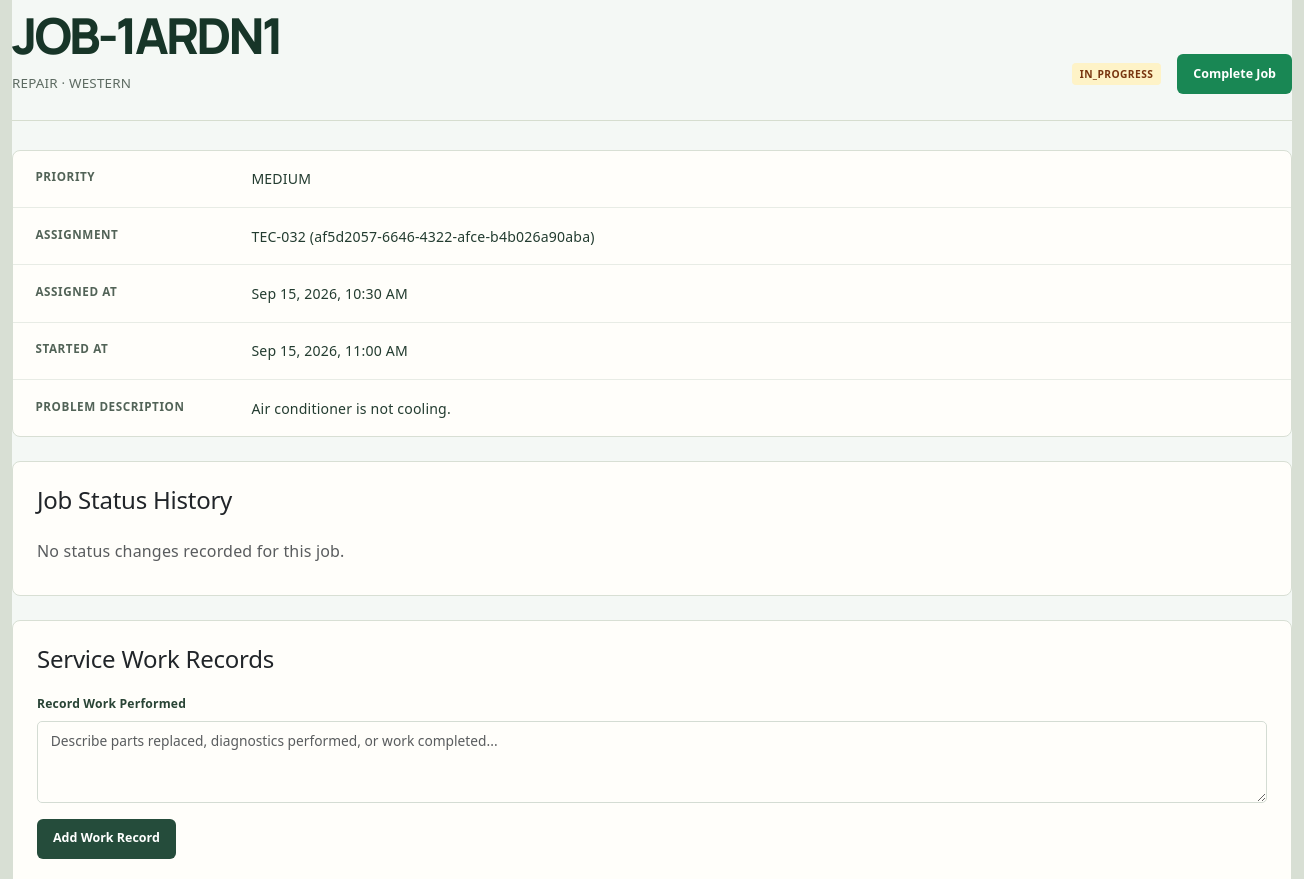
Test: JobDetailPage › adds a work record and displays it in the list
Replace the text in the text box labelled "Record Work Performed" with "Checked coolant levels and tightened valves." at point(652, 762), box [37,721,1267,803]
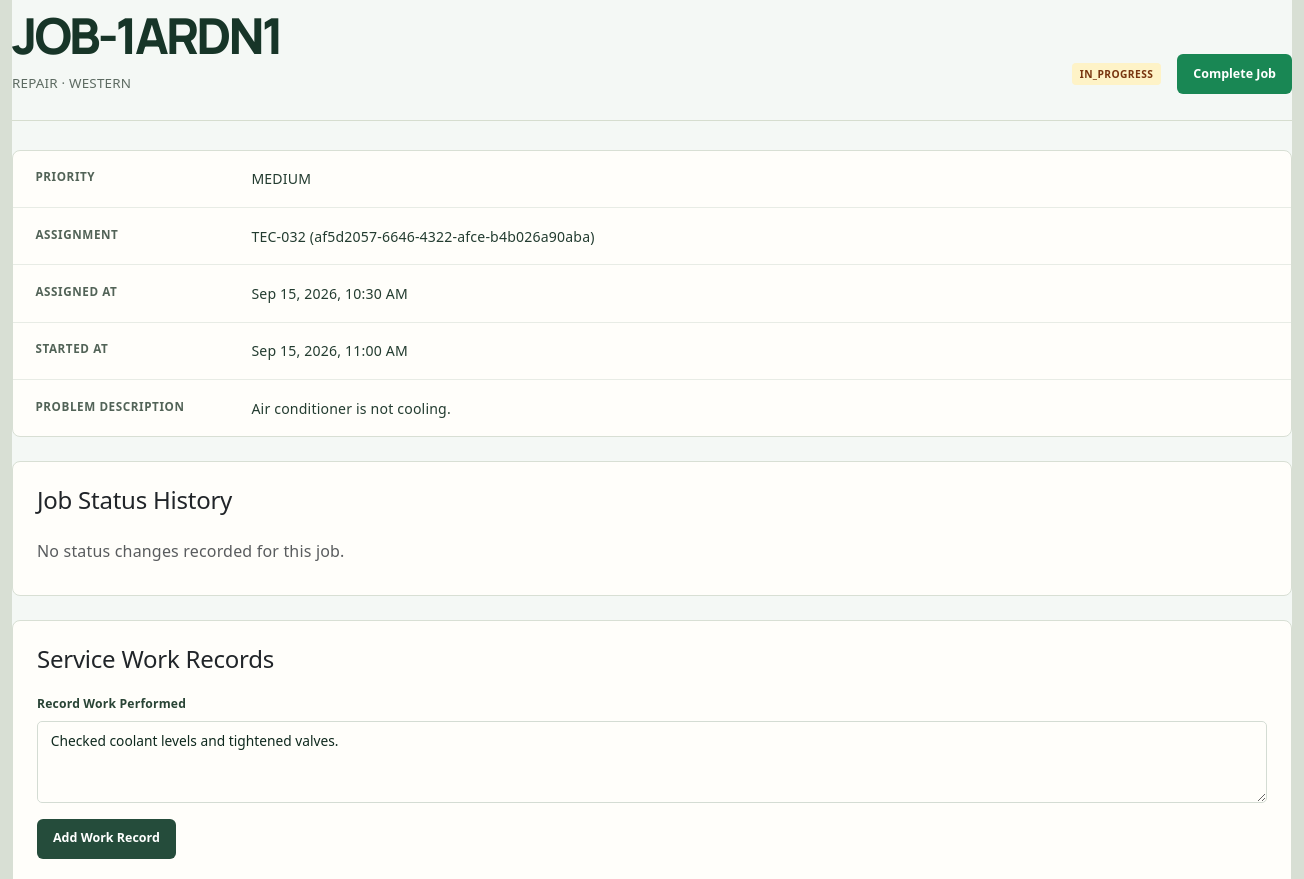
Click the button "Add Work Record" at point(106, 839), box [37,819,176,859]
(page scrolled)
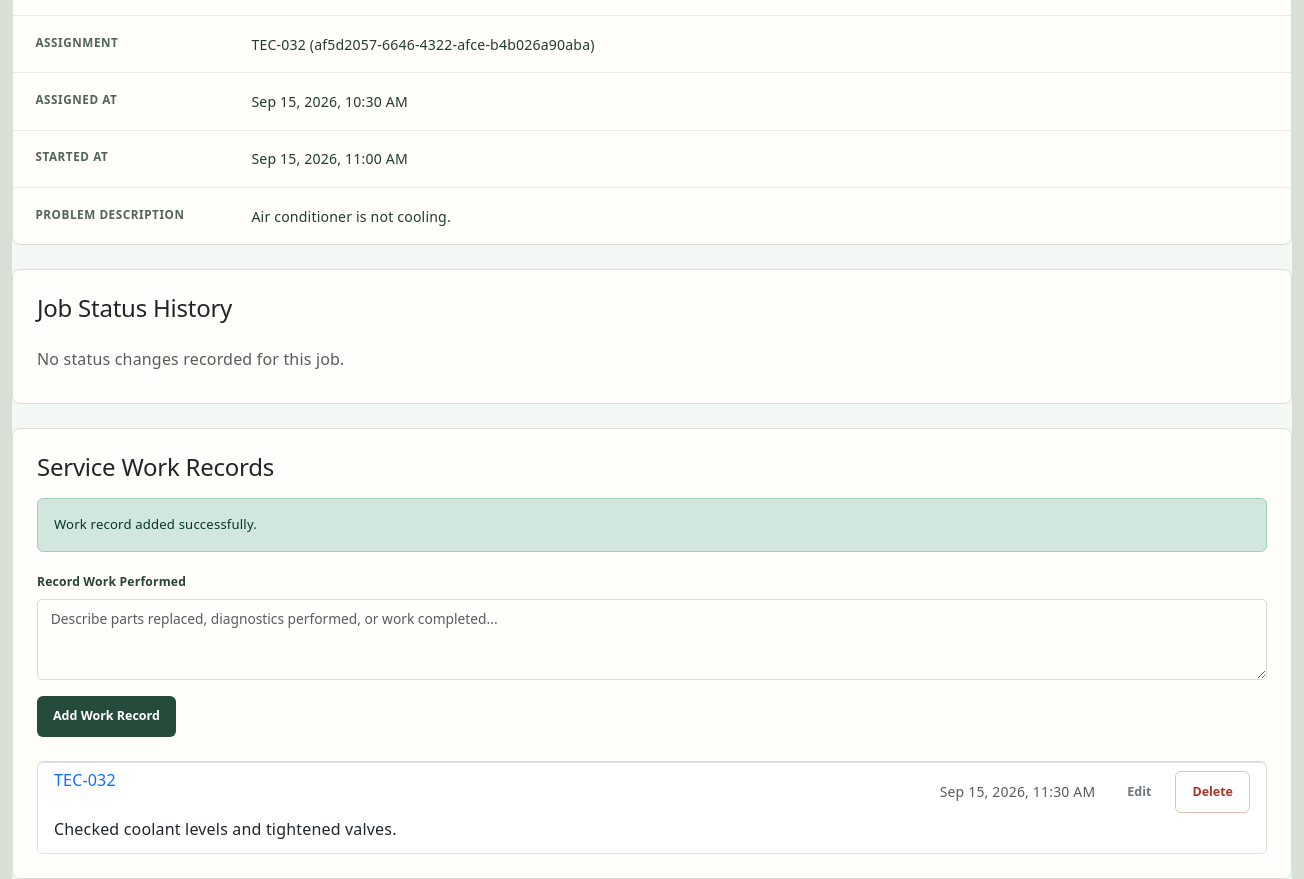
Now the text "Work record added successfully." is shown, box [37,498,1267,552]
Now the text "Checked coolant levels and tightened valves." is shown, box [54,818,397,840]
